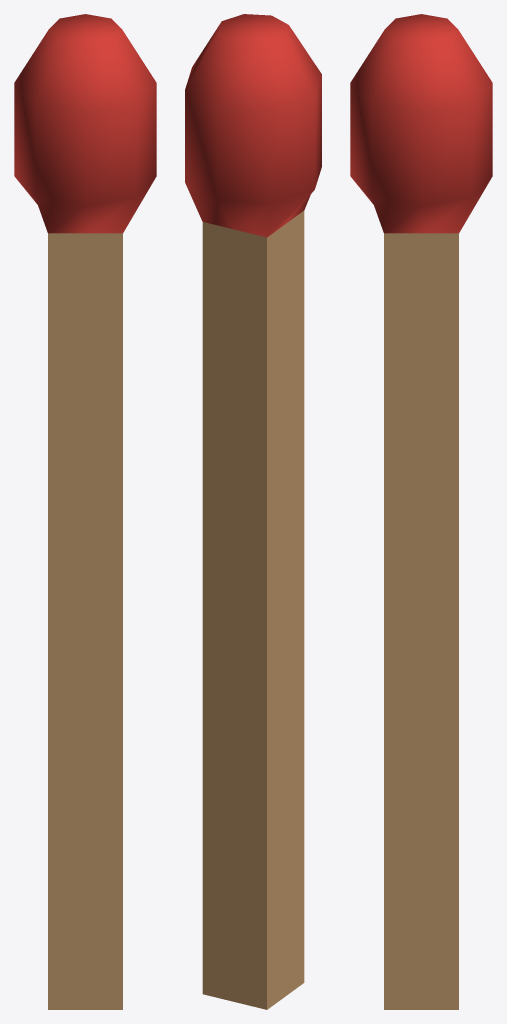
The model's file is Match.fbx.
3 views of the same model, side by side, from view 1: azimuth 90°, elevation 25°; view 2: azimuth 150°, elevation 25°; view 3: azimuth 270°, elevation 25° (orthographic).
Parts seen in each view (by area): view 1: Match; view 2: Match; view 3: Match.
Boxes of the visible parts, x1=… form: Match: x1=14, y1=14, x2=156, y2=1009; Match: x1=185, y1=14, x2=321, y2=1009; Match: x1=350, y1=14, x2=492, y2=1009.
Bounding box in the file's own units: 14.63 × 109 × 14.63.
